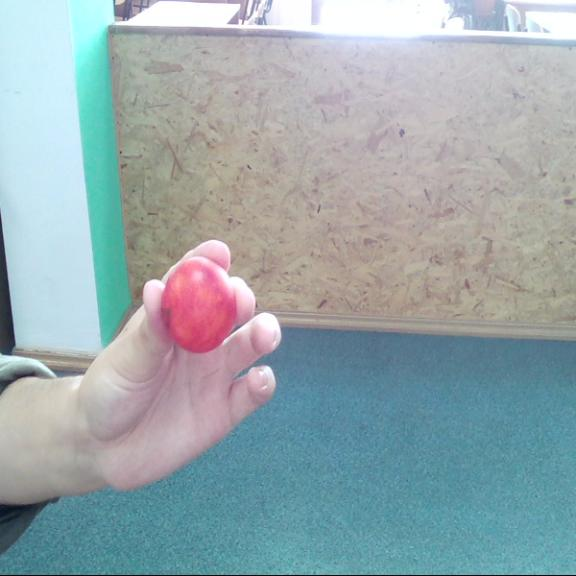ball: (162, 259, 236, 357)
